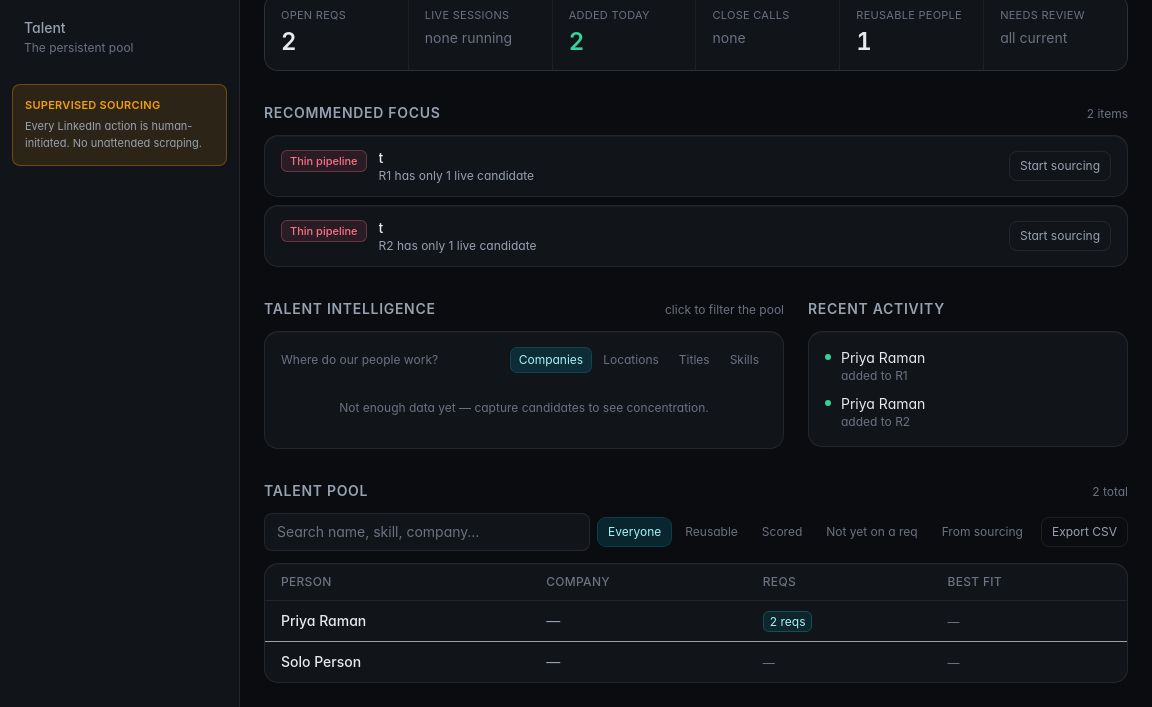
Scenario: 5. talent pool › the Reusable view shows only people on more than one req
(page scrolled)
Check: the link "Solo Person" is shown, box [281,652,361,670]
Click the button "Reusable" at (712, 532), box [675,518,748,546]
(page scrolled)
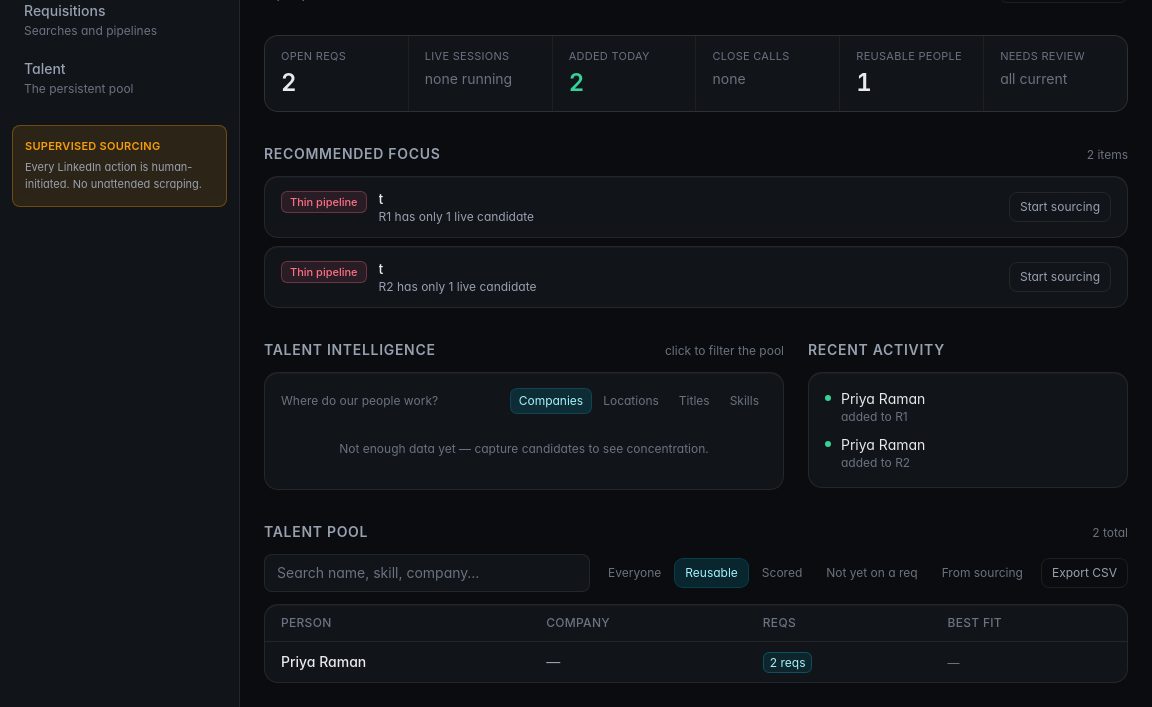
Check: the 1st link "Priya Raman" is shown, box [841,388,925,408]
Check: the link "Solo Person" is gone
